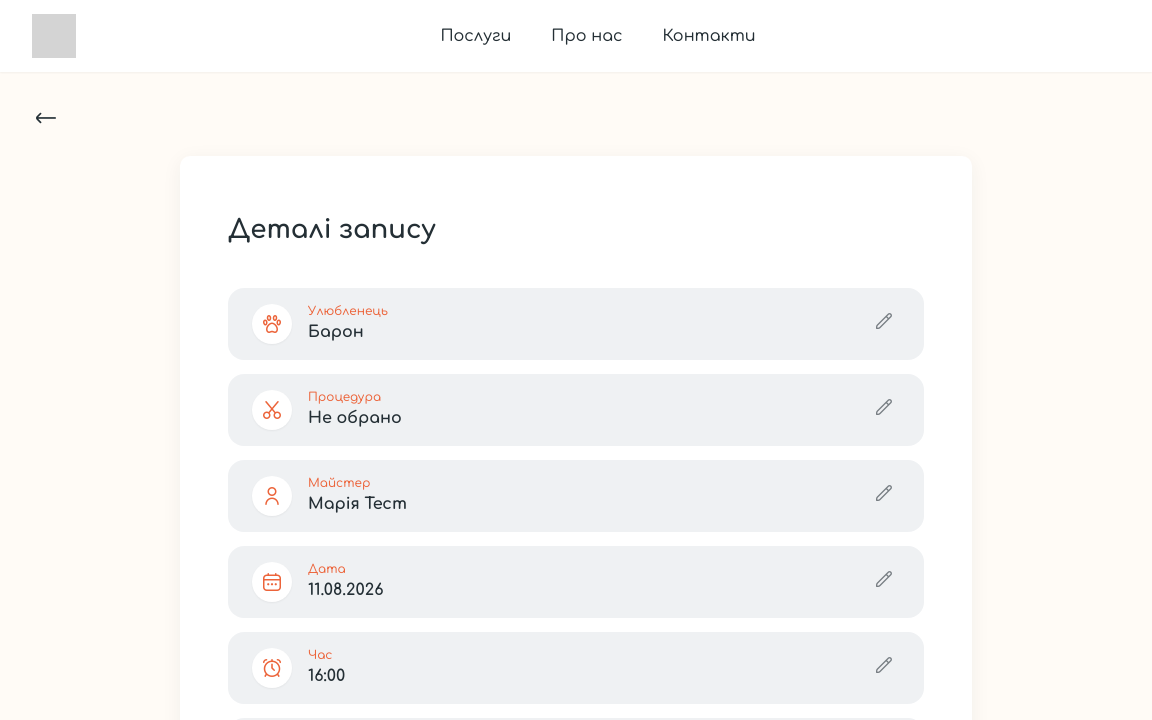
Test: BookingPage › renders stage 6 confirmation details with edit links that return to confirmation
This screenshot has width=1152, height=720.
Expected: the heading "Деталі запису" is shown, [228,215,436,244]
Expected: the text "Улюбленець" is shown, [308,304,388,319]
Click the button named "Редагувати: Процедура". click: {"x": 884, "y": 410}
box: [868,390,900,430]
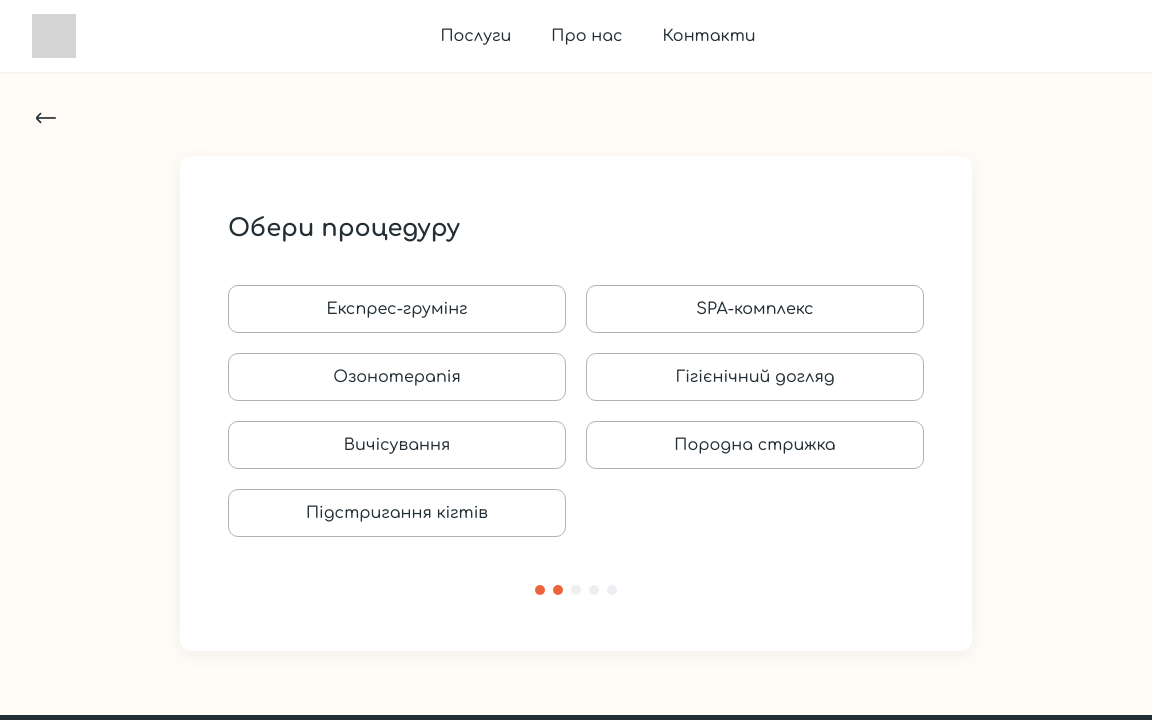
Expected: the heading "Обери процедуру" is shown, [228,215,460,242]
Click the radio button labelled "Експрес-грумінг". click: {"x": 397, "y": 309}
box: [228,285,566,333]
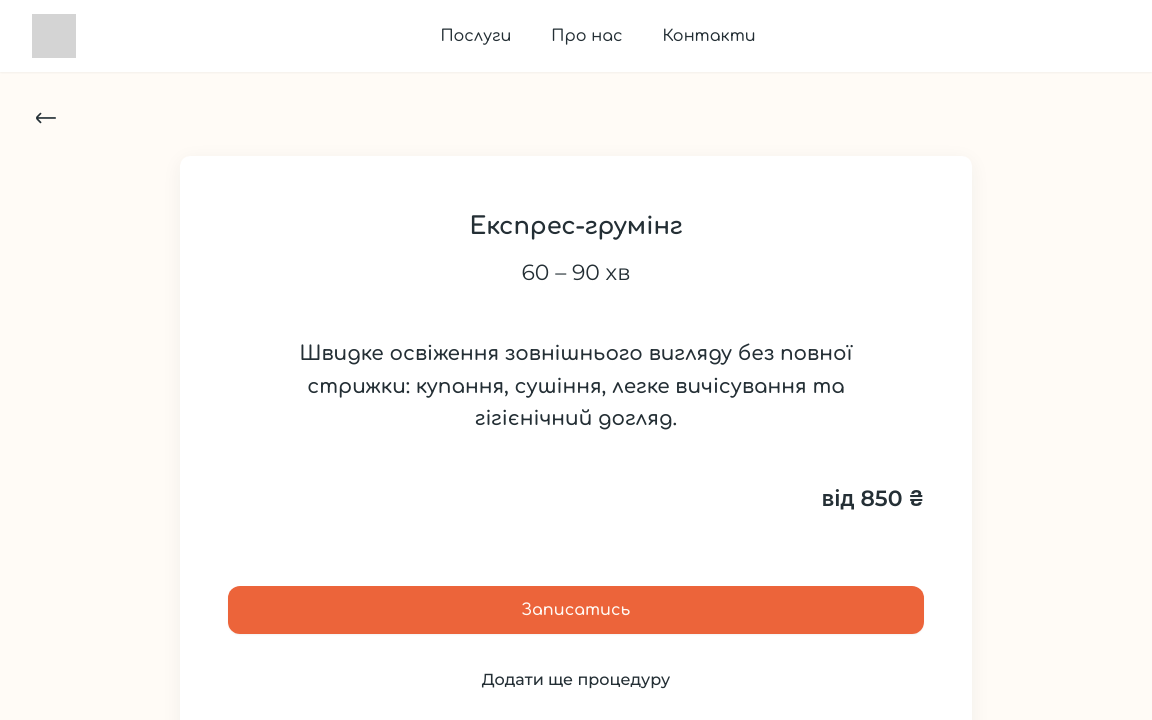
Click the button "Записатись". click: {"x": 576, "y": 610}
box: [228,586,924,634]
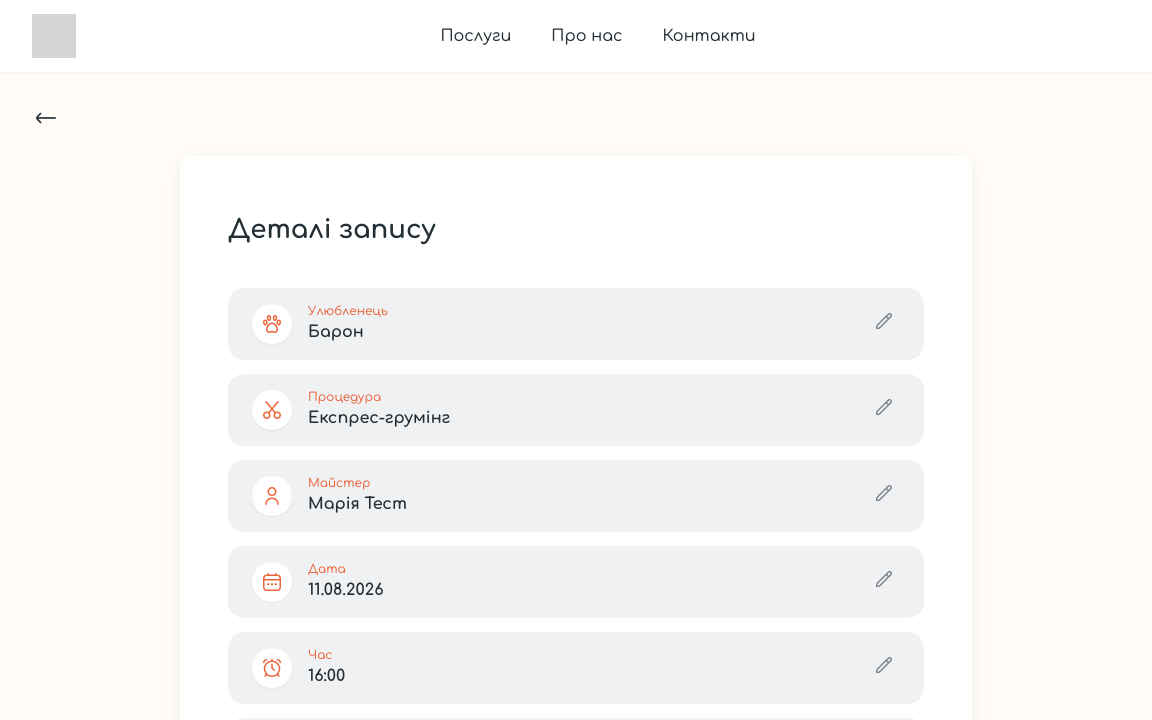
Expected: the heading "Деталі запису" is shown, [228,215,436,244]
